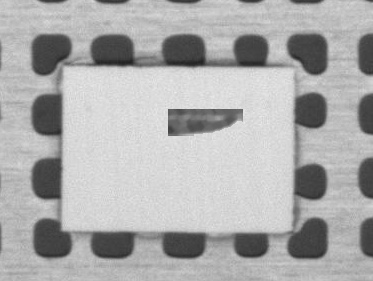DIE_INK: (223, 82, 323, 102)
